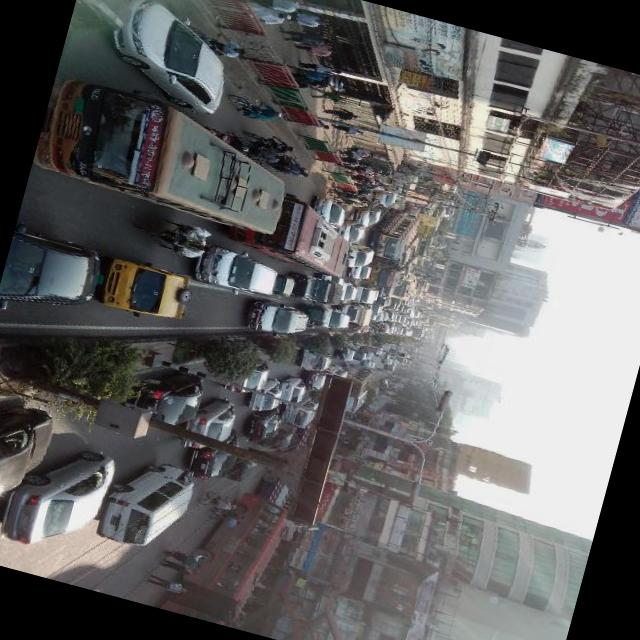bus: (31, 73, 302, 240), (159, 478, 292, 634), (224, 185, 359, 281), (369, 208, 420, 265), (367, 261, 408, 294), (338, 364, 372, 401), (344, 388, 368, 417), (390, 282, 412, 303), (404, 256, 418, 282), (366, 385, 380, 403), (410, 328, 424, 341), (428, 319, 435, 326)
car: (101, 0, 243, 118), (0, 435, 119, 563), (0, 226, 105, 327), (0, 391, 57, 539), (132, 362, 210, 432), (177, 391, 238, 458), (187, 423, 244, 488), (227, 356, 270, 400), (245, 404, 284, 450), (246, 374, 284, 417), (308, 196, 348, 232), (276, 374, 308, 410), (352, 200, 382, 230), (338, 220, 369, 248), (374, 184, 399, 210), (302, 368, 326, 393), (338, 282, 358, 304), (350, 264, 372, 284), (336, 345, 355, 364), (362, 360, 377, 371), (372, 310, 384, 322), (360, 348, 372, 360), (373, 346, 383, 357), (380, 378, 390, 389), (384, 358, 392, 366)
motorcycle: (223, 455, 258, 486), (261, 426, 294, 454), (266, 150, 298, 178), (203, 126, 240, 148), (300, 304, 330, 326), (272, 274, 296, 300), (353, 350, 368, 363), (378, 369, 382, 372)
truck: (91, 451, 198, 558), (95, 254, 193, 327), (192, 242, 281, 300), (244, 296, 310, 344), (286, 272, 345, 310), (281, 392, 319, 432), (344, 242, 379, 275), (300, 348, 333, 377), (337, 302, 372, 328), (322, 310, 352, 334), (323, 365, 348, 392), (354, 286, 377, 306), (365, 303, 384, 320), (378, 351, 392, 362)
